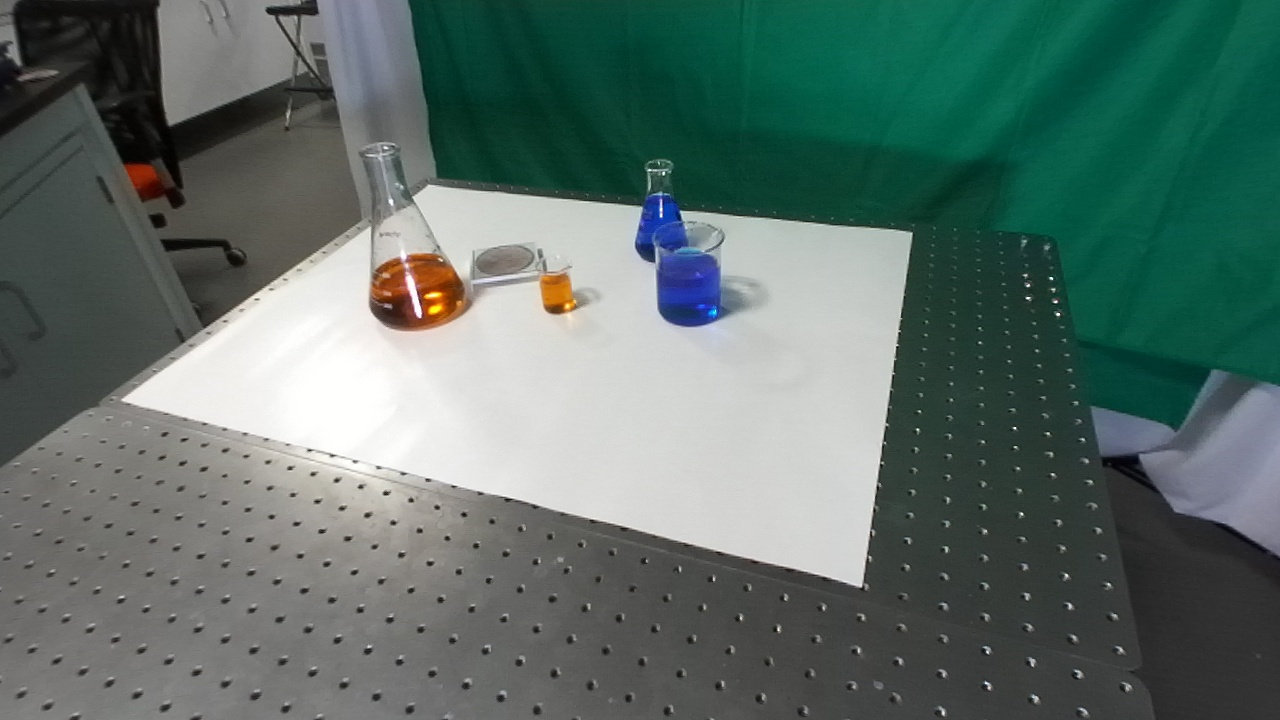glass: (356, 139, 470, 333), (651, 218, 729, 332), (634, 157, 692, 265), (535, 253, 580, 318)
plate: (466, 237, 547, 292)
